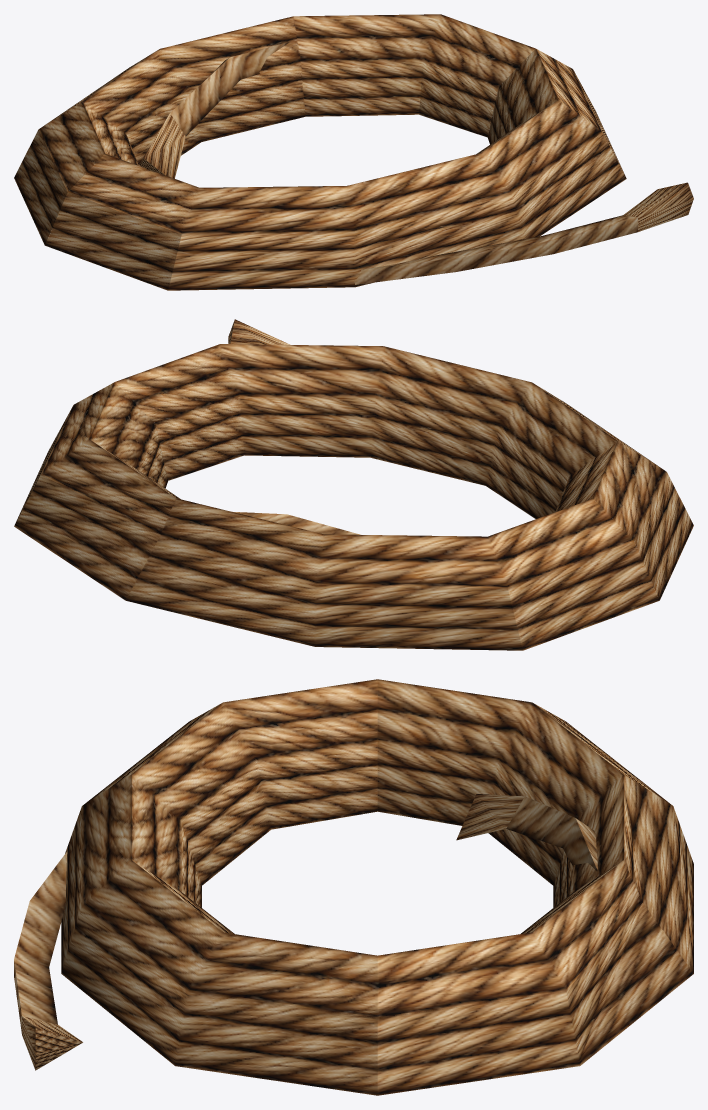
The model's file is mm9_deco_ropecoil.glb.
3 renders of one model, top to bottom at view 1: azimuth 30°, elevation 25°; view 2: azimuth 150°, elevation 25°; view 3: azimuth 270°, elevation 25°, orthographic. The views are drawn at different scales.
Visible parts, largest first — view 1: Ropecoil; view 2: Ropecoil; view 3: Ropecoil.
Boxes of the visible parts, bbox=[...] form: Ropecoil: bbox=[14, 14, 693, 290]; Ropecoil: bbox=[14, 319, 693, 650]; Ropecoil: bbox=[14, 679, 693, 1095].
Size of the model in its own units: 1.02 by 0.137 by 0.8307.
1 material, 1 textured.
